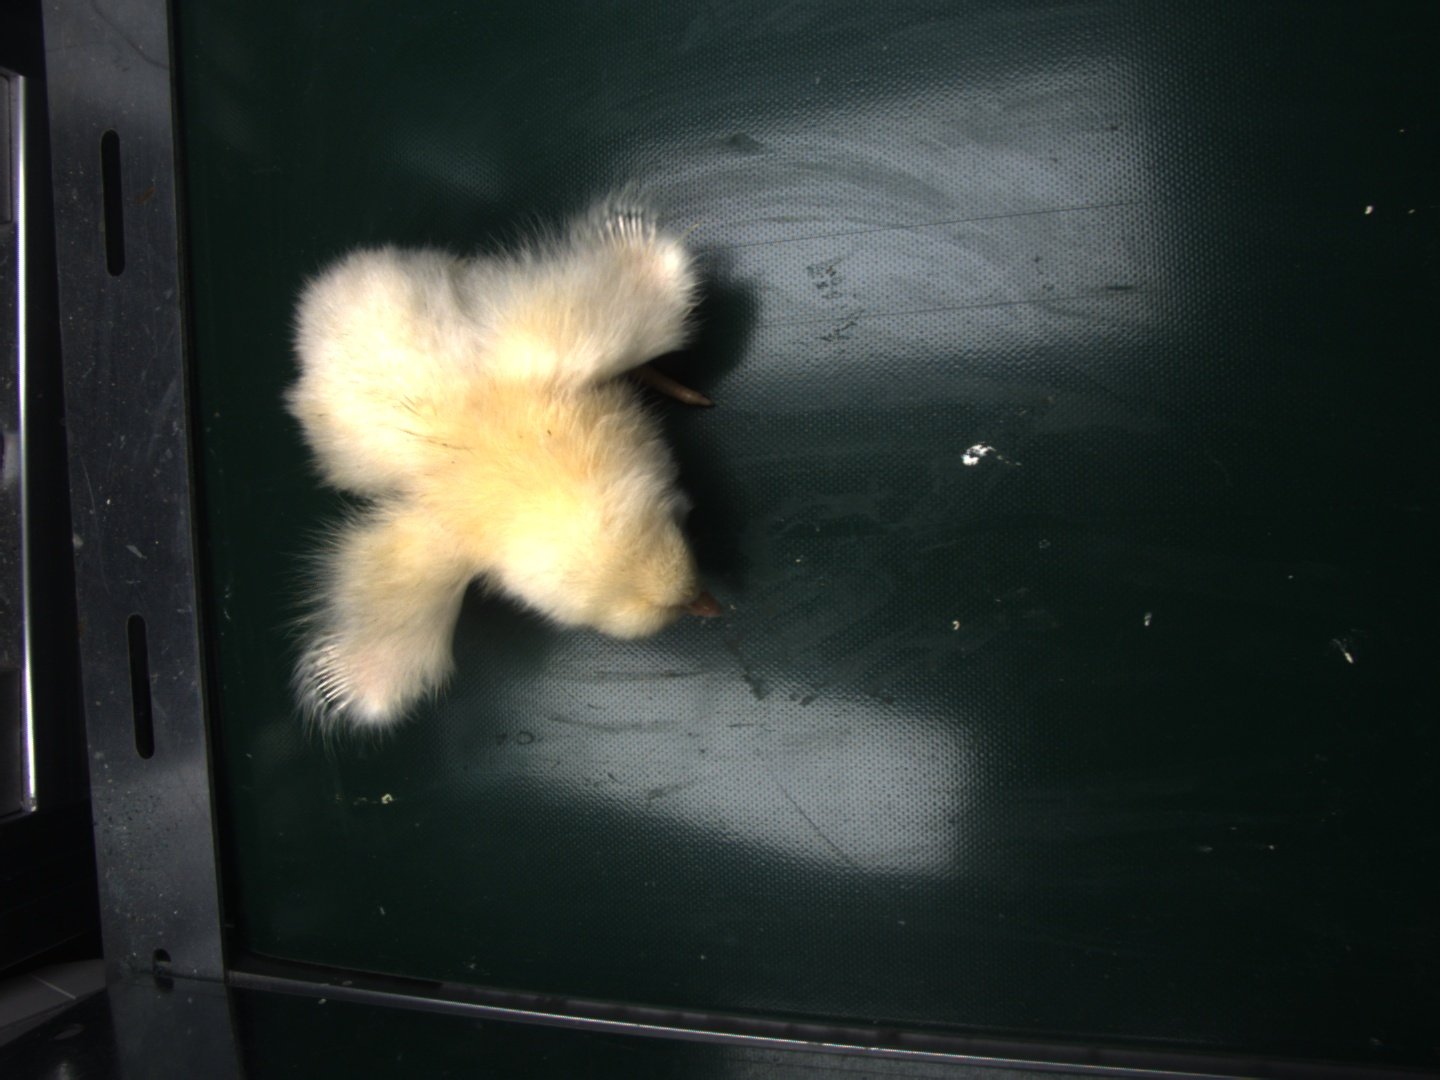male: (310, 638, 358, 712)
